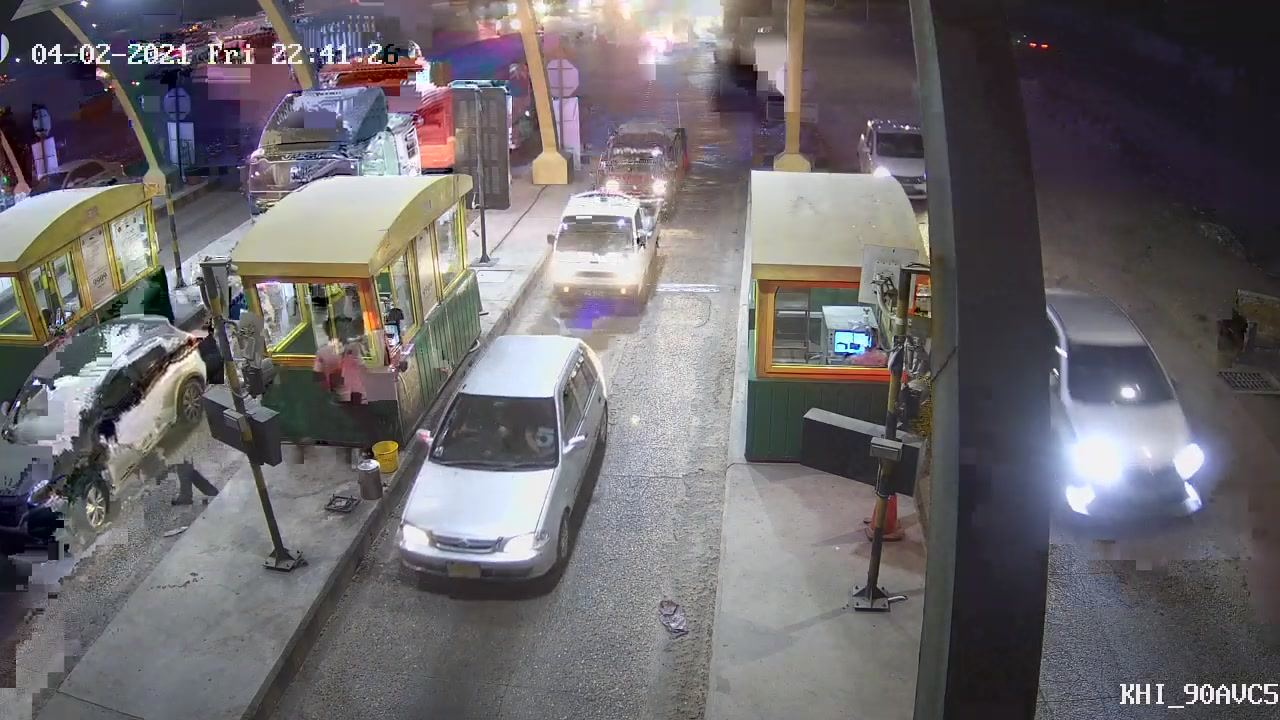F1: (390, 327, 612, 586)
F2: (544, 193, 666, 310)
